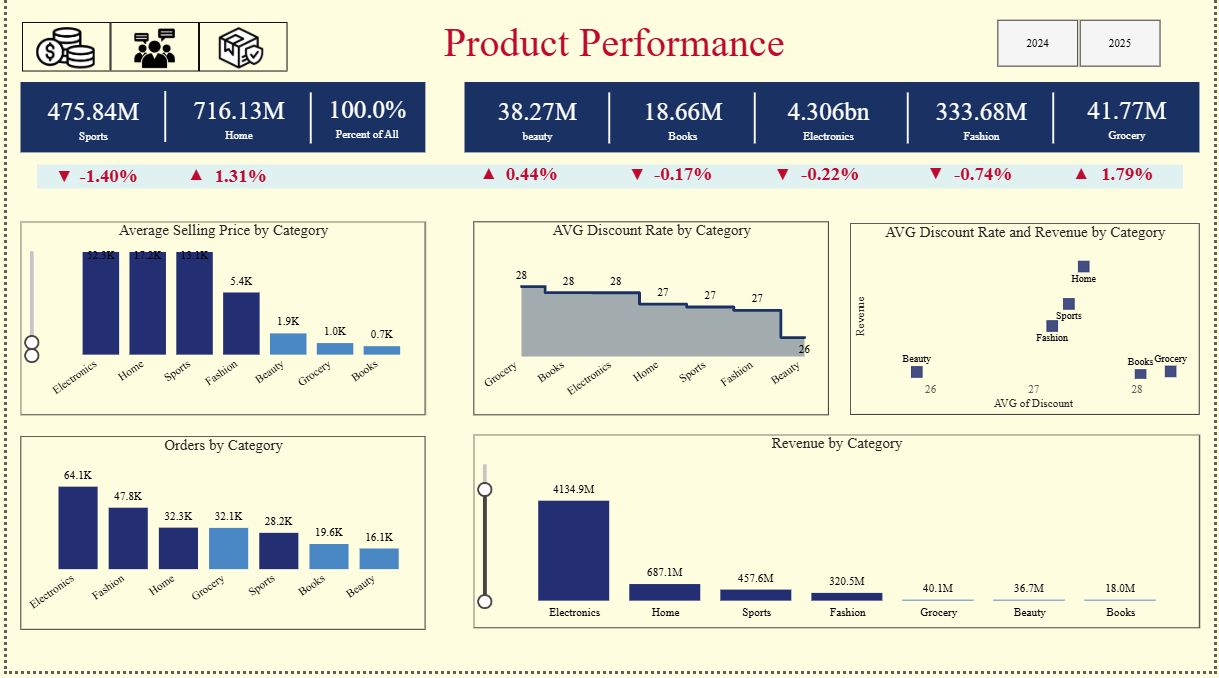

The dashboard page shown, as its layout file describes it:
{"tool":"powerbi","page":{"name":"Products","canvas":[1280,720],"ordinal":3},"visuals":[{"type":"slicer","fields":{"Values":["Calendar.year"]},"box":[1024.4,22.3,222.7,63.6],"z":0},{"type":"shape","box":[14.3,95.4,429.5,74.8],"z":1000},{"type":"shape","box":[485.1,95.4,779.4,74.8],"z":2000},{"type":"card","fields":{"Values":["products.sales & product"]},"box":[319.7,87.5,124.1,85.9],"z":3000},{"type":"lineChart","title":"AVG Discount Rate by Category ","fields":{"Category":["products.Category"],"Y":["Avg(products.Discount_Percent)"]},"box":[494.7,243.4,377,205.2],"z":4000},{"type":"card","fields":{"Values":["products.__beauty"]},"box":[485.1,87.5,154.3,90.7],"z":5000},{"type":"card","fields":{"Values":["products.Books"]},"box":[639.4,87.5,154.3,90.7],"z":6000},{"type":"card","fields":{"Values":["products.Electronics"]},"box":[793.7,87.5,154.3,90.7],"z":7000},{"type":"card","fields":{"Values":["products.Fashion"]},"box":[956,87.5,154.3,90.7],"z":8000},{"type":"card","fields":{"Values":["products.Grocery"]},"box":[1110.2,85.9,154.3,90.7],"z":9000},{"type":"card","fields":{"Values":["products.Sports"]},"box":[14.3,87.5,154.3,90.7],"z":10000},{"type":"card","fields":{"Values":["products.Home"]},"box":[168.6,85.9,154.3,90.7],"z":11000},{"type":"shape","box":[31.8,182.9,1215.2,25.4],"z":12000},{"type":"card","fields":{"Values":["products.Be YOY%"]},"box":[494.7,170.2,122.5,46.1],"z":13000},{"type":"card","fields":{"Values":["products.Books YOY%"]},"box":[655.3,170.2,122.5,46.1],"z":14000},{"type":"card","fields":{"Values":["products.elecYOY%"]},"box":[811.2,170.2,122.5,46.1],"z":15000},{"type":"card","fields":{"Values":["products.Fashion YOY%"]},"box":[973.5,170.2,122.5,46.1],"z":16000},{"type":"card","fields":{"Values":["products.Grocery YOY%"]},"box":[1126.2,170.2,122.5,46.1],"z":17000},{"type":"card","fields":{"Values":["products.Home YOY%"]},"box":[186.1,171.8,122.5,46.1],"z":18000},{"type":"card","fields":{"Values":["products.Sports YOY%"]},"box":[46.1,171.8,122.5,46.1],"z":19000},{"type":"card","fields":{"Values":["products.Be arrow"]},"box":[485.1,170.2,50.9,46.1],"z":20000},{"type":"card","fields":{"Values":["products.books arrow"]},"box":[639.4,171.8,57.3,46.1],"z":21000},{"type":"card","fields":{"Values":["products.Ele arrow"]},"box":[793.7,171.8,57.3,46.1],"z":22000},{"type":"card","fields":{"Values":["products.Fashion arrow"]},"box":[956,170.2,57.3,46.1],"z":23000},{"type":"card","fields":{"Values":["products.Gro arrow"]},"box":[1110.2,170.2,57.3,46.1],"z":24000},{"type":"card","fields":{"Values":["products.Home arrow"]},"box":[171.8,171.8,57.3,46.1],"z":25000},{"type":"card","fields":{"Values":["products.sports arrow"]},"box":[31.8,173.4,57.3,46.1],"z":26000},{"type":"lineStackedColumnComboChart","title":"Revenue by Category","fields":{"Y":["Sum(sales.Total_Amount)"],"Category":["products.Category"]},"box":[494.7,469.2,769.9,205.2],"z":27000},{"type":"lineStackedColumnComboChart","title":"Orders by Category","fields":{"Y":["CountNonNull(sales.Order_ID)"],"Category":["products.Category"]},"box":[14.3,470.8,429.5,205.2],"z":28000},{"type":"lineStackedColumnComboChart","title":"Average Selling Price by Category","fields":{"Y":["Avg(products.Selling_Price)"],"Category":["products.Category"]},"box":[14.3,243.4,429.5,205.2],"z":29000},{"type":"scatterChart","title":"AVG Discount Rate and Revenue by Category","fields":{"Y":["sales.__Revenue"],"Category":["products.Category"],"X":["products.Discount_Percent"]},"box":[893.9,245,370.6,203.6],"z":30000},{"type":"shape","box":[138.4,105,58.9,54.1],"z":31000},{"type":"shape","box":[292.7,106.6,58.9,54.1],"z":32000},{"type":"shape","box":[609.2,106.6,58.9,54.1],"z":33000},{"type":"shape","box":[763.5,106.6,58.9,54.1],"z":34000},{"type":"shape","box":[925.7,106.6,58.9,54.1],"z":35000},{"type":"shape","box":[1080,106.6,58.9,54.1],"z":36000},{"type":"image","box":[213.1,31.8,70,54.1],"z":37000},{"type":"image","box":[116.1,33.4,81.1,52.5],"z":37500},{"type":"textbox","box":[458.1,23.9,392.9,60.4],"z":38000},{"type":"image","box":[14.3,31.8,95.4,54.1],"z":39000},{"type":"actionButton","box":[203.6,31.8,93.8,52.5],"z":40000},{"type":"actionButton","box":[109.8,31.8,93.8,52.5],"z":41000},{"type":"actionButton","box":[15.9,31.8,93.8,52.5],"z":42000}]}

Visuals, with their boxes in screenshot pixels (x1, y1, x2, y2), scaled from the page's 1280x720 canvas onto the 1219x678 screenshot:
slicer - Calendar.year: bbox=[976, 21, 1188, 81]
shape: bbox=[14, 90, 423, 160]
shape: bbox=[462, 90, 1204, 160]
card - products.sales & product: bbox=[304, 82, 423, 163]
"AVG Discount Rate by Category " lineChart: bbox=[471, 229, 830, 422]
card - products.__beauty: bbox=[462, 82, 609, 168]
card - products.Books: bbox=[609, 82, 756, 168]
card - products.Electronics: bbox=[756, 82, 903, 168]
card - products.Fashion: bbox=[910, 82, 1057, 168]
card - products.Grocery: bbox=[1057, 81, 1204, 166]
card - products.Sports: bbox=[14, 82, 161, 168]
card - products.Home: bbox=[161, 81, 308, 166]
shape: bbox=[30, 172, 1188, 196]
card - products.Be YOY%: bbox=[471, 160, 588, 204]
card - products.Books YOY%: bbox=[624, 160, 741, 204]
card - products.elecYOY%: bbox=[773, 160, 889, 204]
card - products.Fashion YOY%: bbox=[927, 160, 1044, 204]
card - products.Grocery YOY%: bbox=[1073, 160, 1189, 204]
card - products.Home YOY%: bbox=[177, 162, 294, 205]
card - products.Sports YOY%: bbox=[44, 162, 161, 205]
card - products.Be arrow: bbox=[462, 160, 510, 204]
card - products.books arrow: bbox=[609, 162, 663, 205]
card - products.Ele arrow: bbox=[756, 162, 810, 205]
card - products.Fashion arrow: bbox=[910, 160, 965, 204]
card - products.Gro arrow: bbox=[1057, 160, 1112, 204]
card - products.Home arrow: bbox=[164, 162, 218, 205]
card - products.sports arrow: bbox=[30, 163, 85, 207]
"Revenue by Category" lineStackedColumnComboChart: bbox=[471, 442, 1204, 635]
"Orders by Category" lineStackedColumnComboChart: bbox=[14, 443, 423, 637]
"Average Selling Price by Category" lineStackedColumnComboChart: bbox=[14, 229, 423, 422]
"AVG Discount Rate and Revenue by Category" scatterChart: bbox=[851, 231, 1204, 422]
shape: bbox=[132, 99, 188, 150]
shape: bbox=[279, 100, 335, 151]
shape: bbox=[580, 100, 636, 151]
shape: bbox=[727, 100, 783, 151]
shape: bbox=[882, 100, 938, 151]
shape: bbox=[1029, 100, 1085, 151]
image: bbox=[203, 30, 270, 81]
image: bbox=[111, 31, 188, 81]
textbox: bbox=[436, 23, 810, 79]
image: bbox=[14, 30, 104, 81]
actionButton: bbox=[194, 30, 283, 79]
actionButton: bbox=[105, 30, 194, 79]
actionButton: bbox=[15, 30, 104, 79]
